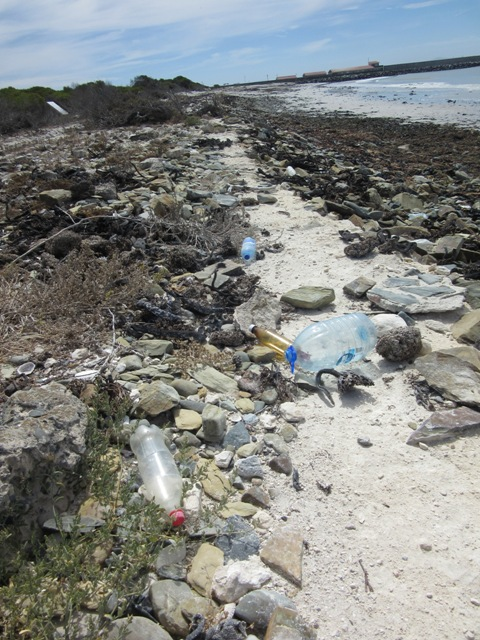trash: (250, 281, 441, 391), (119, 400, 208, 549), (225, 223, 272, 270)
